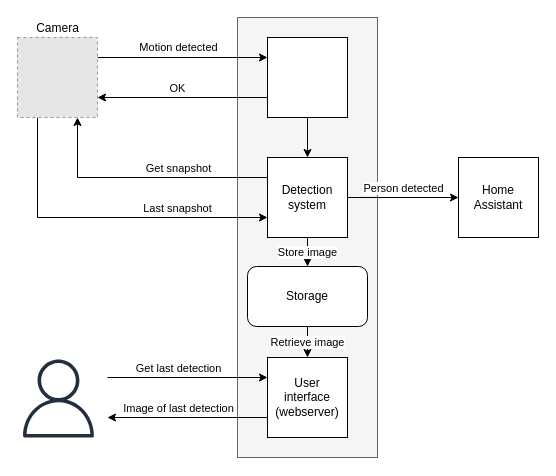
Image size: 556x476. Some labels were removed from this diagram. Grey dashed boxes stand in for pictures. The shapes that lost their labels are listed below. From the top down, each one's centre as x and y in pixels, then its label:
the point at 307,77: Webhook
the point at 58,398: User
